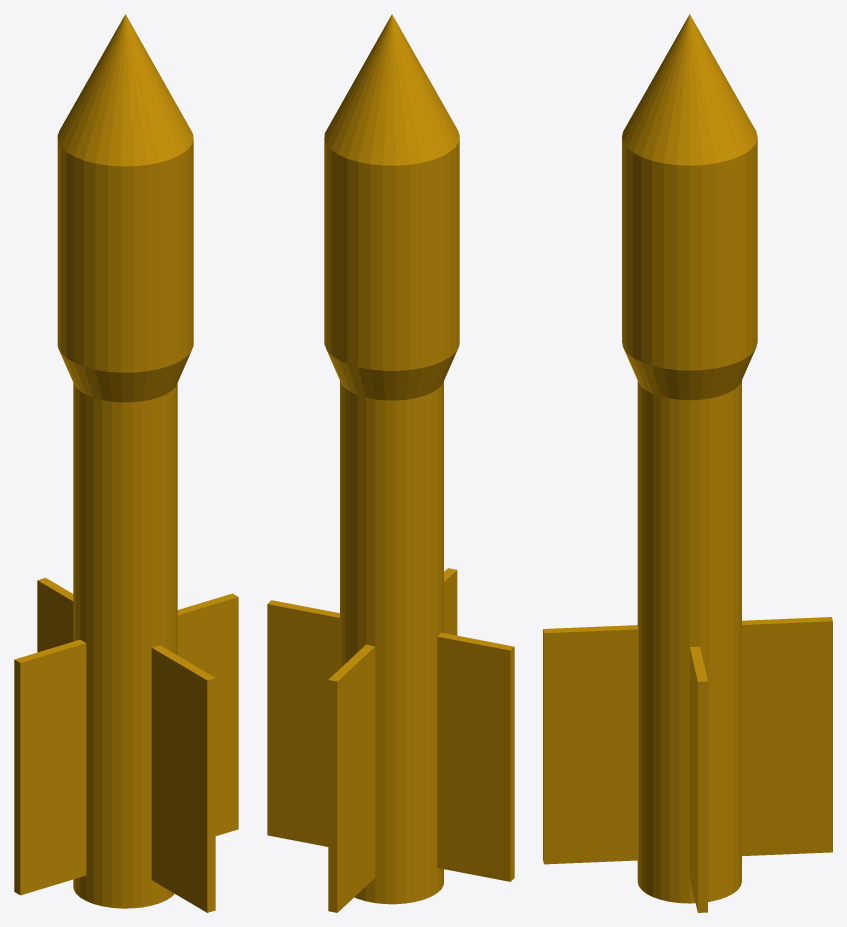
The model's file is plane_missile.obj.
3 renders of one model, left to right at view 1: azimuth 30°, elevation 25°; view 2: azimuth 150°, elevation 25°; view 3: azimuth 270°, elevation 25°, orthographic.
Visible parts, largest first — view 1: Cone; view 2: Cone; view 3: Cone.
Part boxes in pixels (x1=…): Cone: x1=14, y1=14, x2=238, y2=912; Cone: x1=267, y1=14, x2=514, y2=912; Cone: x1=543, y1=14, x2=832, y2=912.
Size of the model in its own units: 0.051 by 0.1833 by 0.0555.
